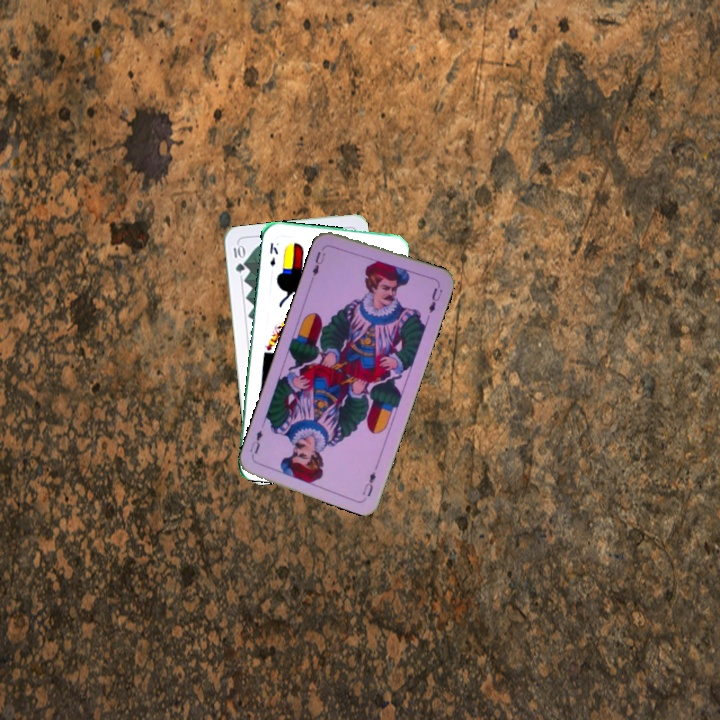EK: (266, 239, 281, 269)
EU: (308, 247, 328, 278), (359, 468, 378, 499)
G10: (229, 241, 247, 275)
